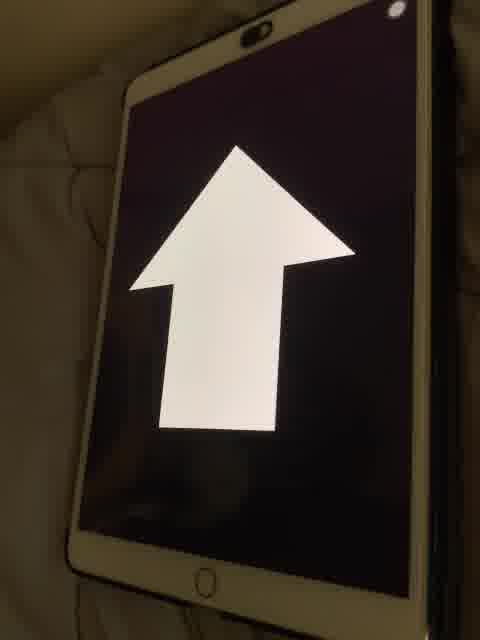up: (124, 143, 356, 437)
